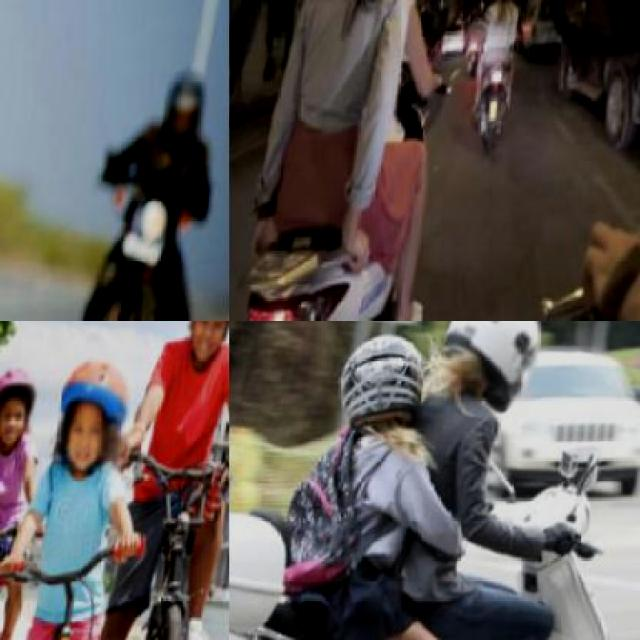With Helmet: (440, 320, 552, 422), (57, 359, 141, 479), (336, 334, 430, 426), (163, 77, 214, 161), (0, 362, 46, 449), (183, 320, 228, 375)
